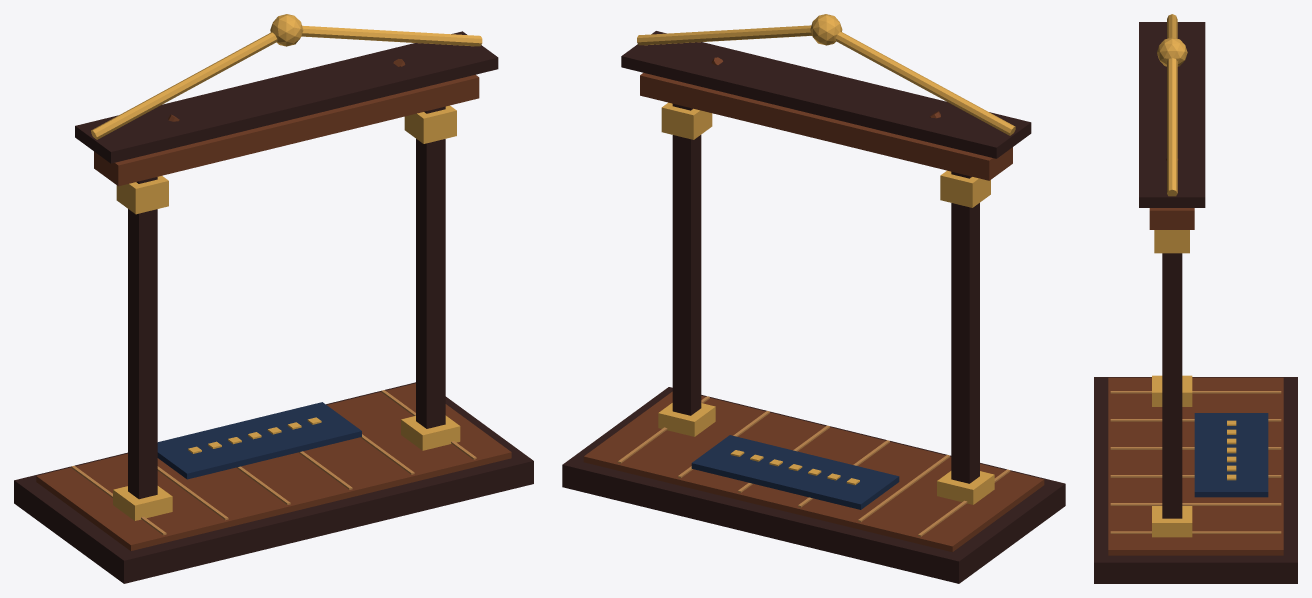
Rendered from jemparingan_pendopo_frame.obj.
The picture shows the model from 3 angles, left to right: view 1: azimuth 30°, elevation 25°; view 2: azimuth 150°, elevation 25°; view 3: azimuth 270°, elevation 25°; orthographic projection. The views are drawn at different scales.
Parts seen in each view (by area): view 1: part_1, part_0, part_17, part_16, part_12, part_8, part_21, part_18, part_19, part_10, part_14, part_13 (+2 smaller); view 2: part_1, part_0, part_17, part_16, part_12, part_8, part_21, part_18, part_19, part_14, part_10, part_13 (+2 smaller); view 3: part_1, part_0, part_17, part_21, part_12, part_19, part_13, part_16, part_14, part_9, part_20, part_6 (+2 smaller).
Part boxes in pixels (<box>): part_1: <box>36,383,511,550</box>; part_0: <box>14,382,533,583</box>; part_17: <box>75,31,498,163</box>; part_16: <box>94,74,479,186</box>; part_12: <box>416,106,445,428</box>; part_8: <box>128,177,157,499</box>; part_21: <box>157,402,361,479</box>; part_18: <box>91,32,277,139</box>; part_19: <box>301,25,482,46</box>; part_10: <box>116,176,168,214</box>; part_14: <box>404,105,456,143</box>; part_13: <box>401,415,460,450</box>; part_1: <box>583,391,1044,552</box>; part_0: <box>562,387,1065,583</box>; part_17: <box>621,31,1031,158</box>; part_16: <box>640,73,1012,180</box>; part_12: <box>672,103,701,415</box>; part_8: <box>951,171,979,483</box>; part_21: <box>691,435,899,509</box>; part_18: <box>835,31,1015,135</box>; part_19: <box>637,25,812,45</box>; part_14: <box>661,102,712,139</box>; part_10: <box>940,170,990,207</box>; part_13: <box>658,403,715,436</box>; part_1: <box>1108,377,1283,555</box>; part_0: <box>1094,377,1297,583</box>; part_17: <box>1139,22,1205,207</box>; part_21: <box>1194,413,1268,497</box>; part_12: <box>1162,253,1182,518</box>; part_19: <box>1167,58,1177,196</box>; part_13: <box>1152,506,1192,537</box>; part_16: <box>1149,208,1194,229</box>; part_14: <box>1154,230,1189,253</box>; part_9: <box>1152,375,1192,406</box>; part_20: <box>1157,37,1187,66</box>; part_6: <box>1110,503,1281,505</box>.
Size of the model in its own units: 1.85 by 2.11 by 0.86.
